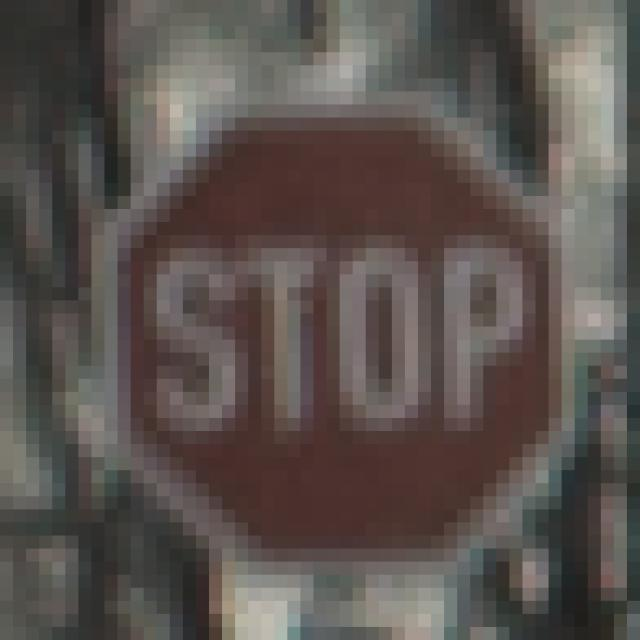STOP: (79, 79, 576, 576)
